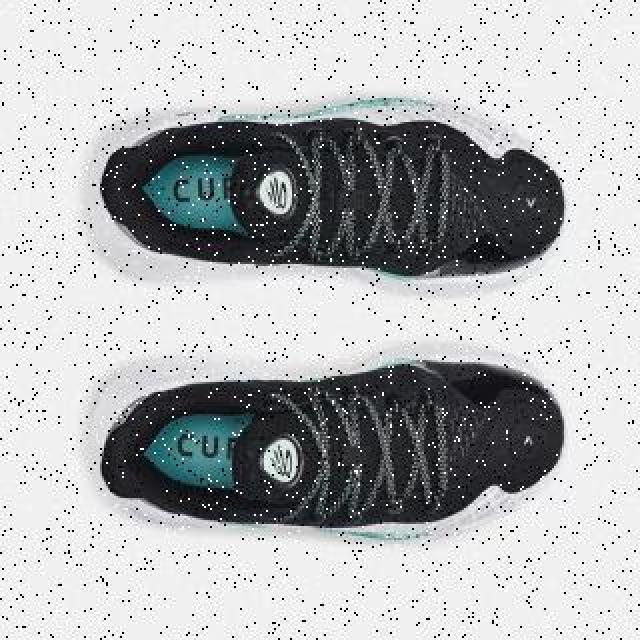shoe: (82, 92, 566, 300), (85, 335, 567, 541)
